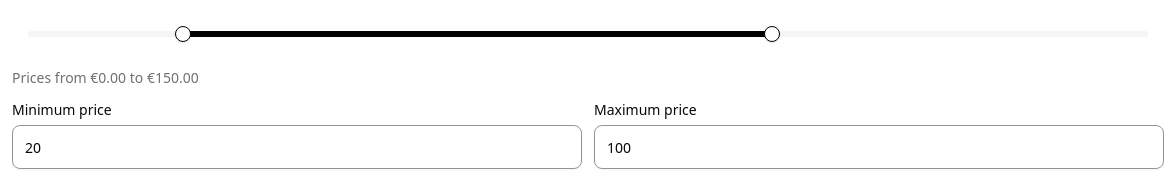
PriceRange › typing a number › pushes a maximum that fell below the minimum up to it when the field is left
The image size is (1176, 189).
Replace the text in the number field labelled "Maximum price" with "5" at [879, 147], box [594,125,1164,169]
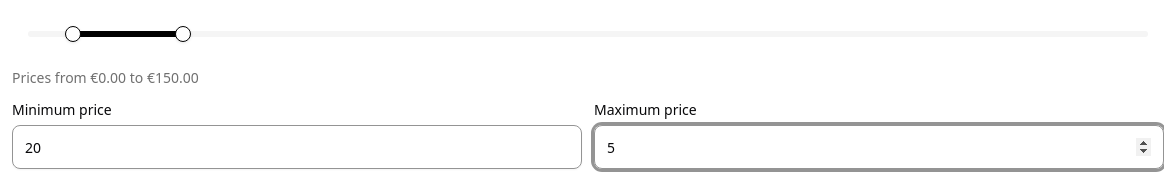
Press Tab
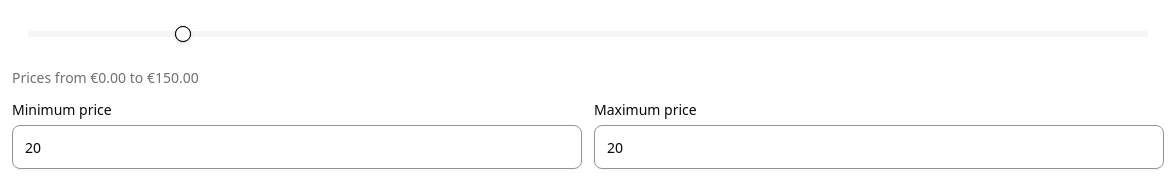
Check: the number field labelled "Maximum price" holds "20", box [594,125,1164,169]
